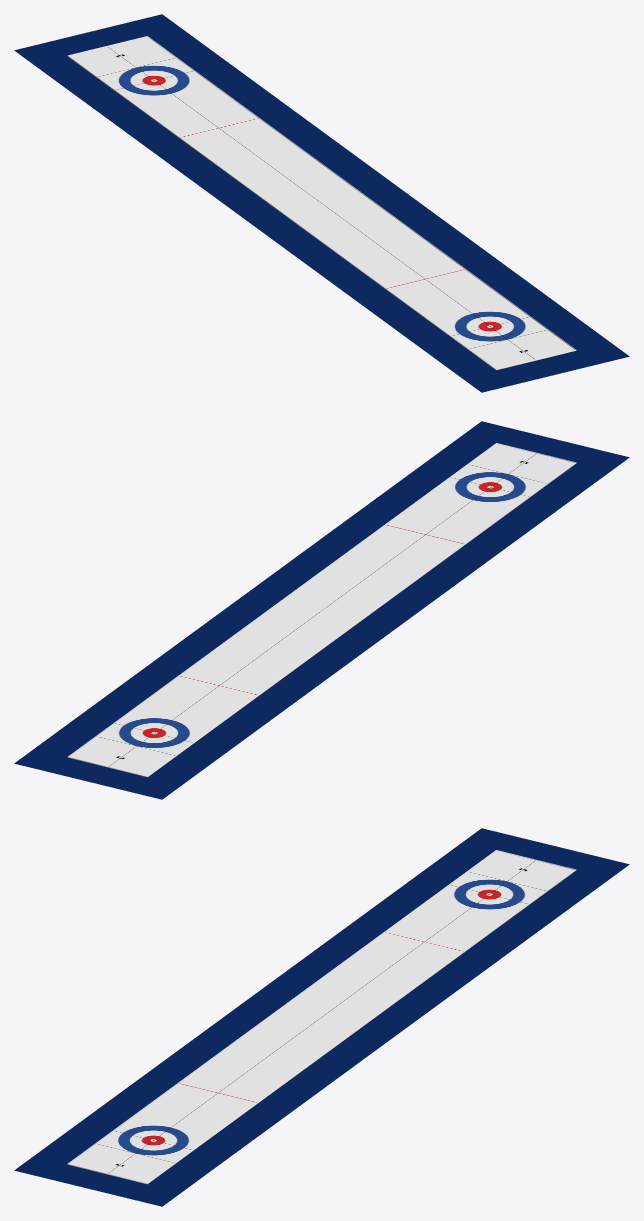
File: rink.FBX
3 views of the same model, one above another, from view 1: azimuth 30°, elevation 25°; view 2: azimuth 150°, elevation 25°; view 3: azimuth 330°, elevation 25° (orthographic).
Visible parts, largest first — view 1: carpet, icefloor, sides; view 2: carpet, icefloor, sides; view 3: carpet, icefloor, sides.
Part boxes in pixels (x1,y1,x2,y2): carpet: (14, 14, 629, 392); icefloor: (69, 37, 574, 368); sides: (67, 36, 576, 370); carpet: (14, 421, 629, 799); icefloor: (69, 444, 574, 775); sides: (67, 443, 576, 777); carpet: (14, 828, 629, 1206); icefloor: (69, 851, 574, 1182); sides: (67, 850, 576, 1184).
Size of the model in its own units: 890 by 9.86 by 4861.
